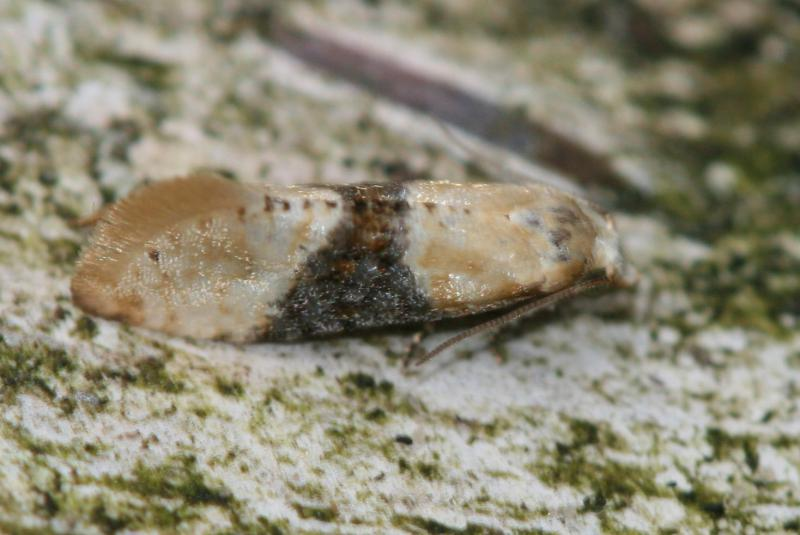Eupoecilia Ambiguella: (66, 168, 641, 371)
